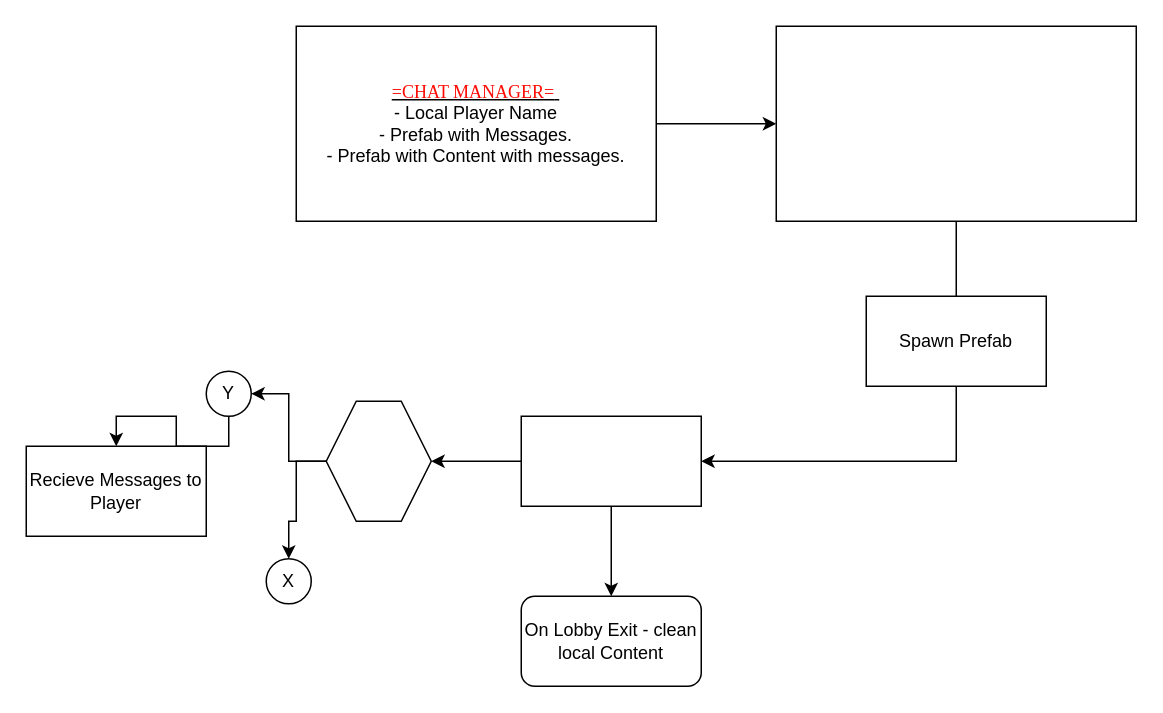
The diagram is 1163 pixels wide and 713 high, and some of its shapes have lost their labels. Each missing label, with the centre of its shape:
CONTENT WITH MESSAGES: the point at 610,460
Get Player Name and Text Information to Prefab: the point at 955,123
IF MESSAGE = BOT?: the point at 378,460
